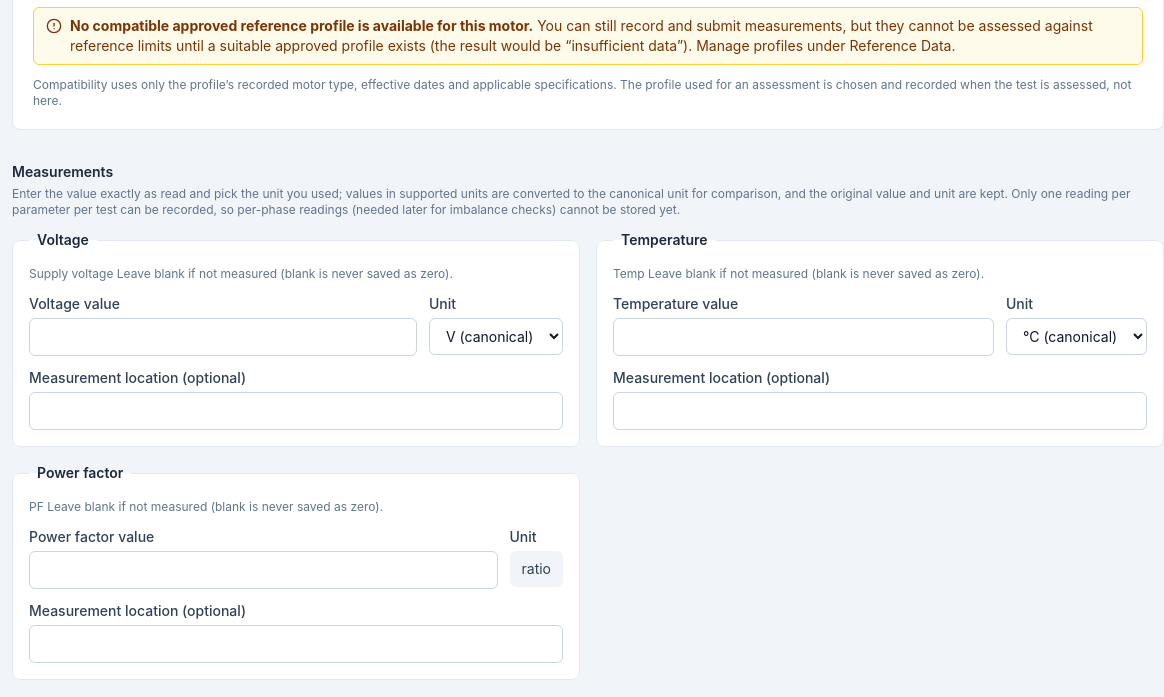
Scenario: TestEditor — validation › rejects infinity, hex and physically impossible values
(page scrolled)
Type "Infinity" into the field labelled "Voltage value".
click(223, 337); type("Infinity")  # box [29, 318, 417, 356]
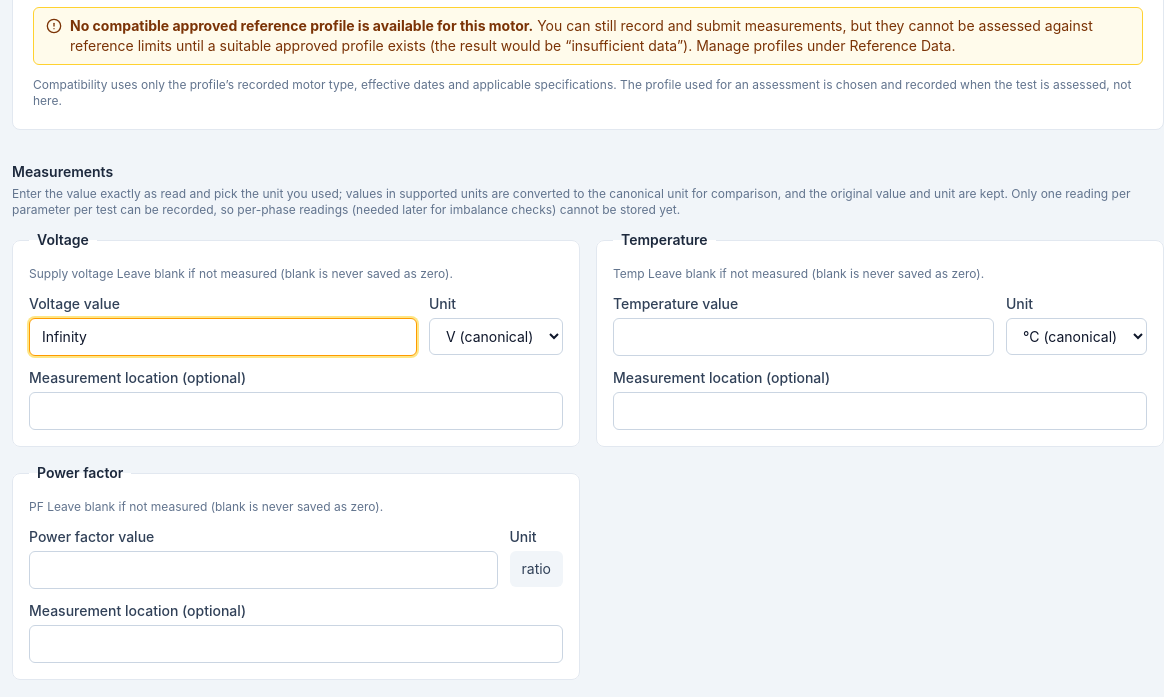
Type "1.5" into the field labelled "Power factor value".
click(263, 570); type("1.5")  # box [29, 551, 498, 589]
(page scrolled)
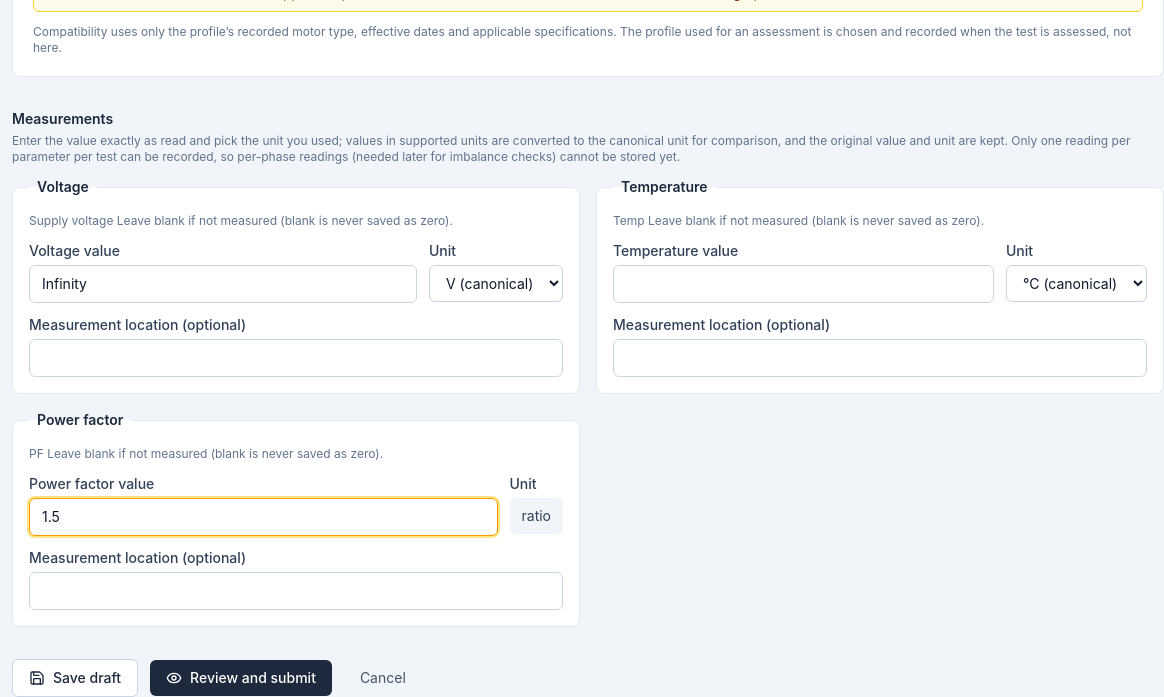
Click the button "Save draft".
click(75, 678)  # box [12, 659, 138, 696]
(page scrolled)
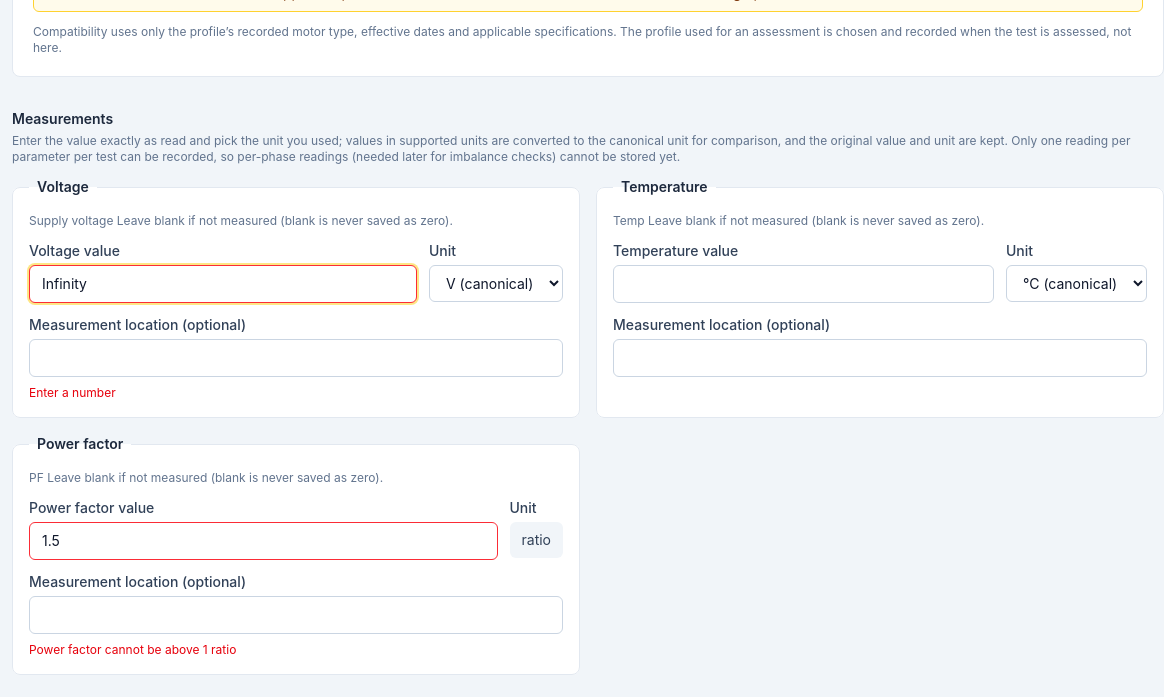
Check: the text "Enter a number" is shown, box [29, 385, 116, 400]
Check: the text "Power factor cannot be above 1 ratio" is shown, box [29, 642, 236, 657]
